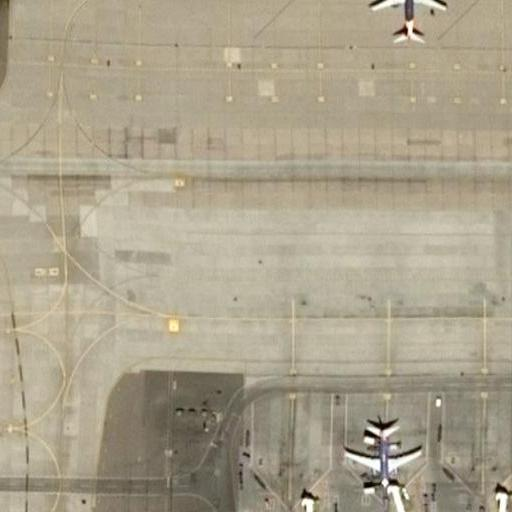Aircraft: (337, 416, 430, 495), (353, 0, 448, 49)
